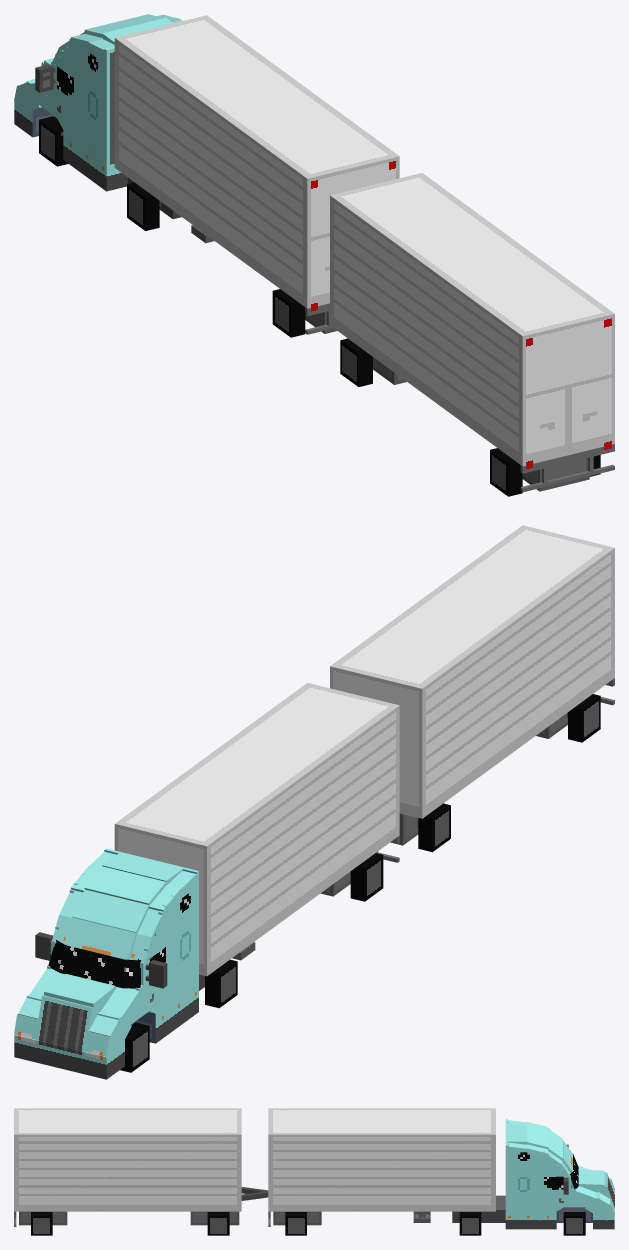
The model's file is Double Trailer Semi Truck.gltf.
The picture shows the model from 3 angles, top to bottom: view 1: azimuth 30°, elevation 25°; view 2: azimuth 150°, elevation 25°; view 3: azimuth 270°, elevation 25°; orthographic projection. The views are drawn at different scales.
Visible parts, largest first — view 1: cube (×21); view 2: cube (×26); view 3: cube (×35).
Part boxes in pixels (x1,y1,x2,y2): cube (×21): [14, 17, 614, 496]; cube (×26): [14, 527, 614, 1079]; cube (×35): [14, 1108, 614, 1235].
Size of the model in its own units: 2.25 by 2.88 by 15.51.
1 material, 1 textured.
